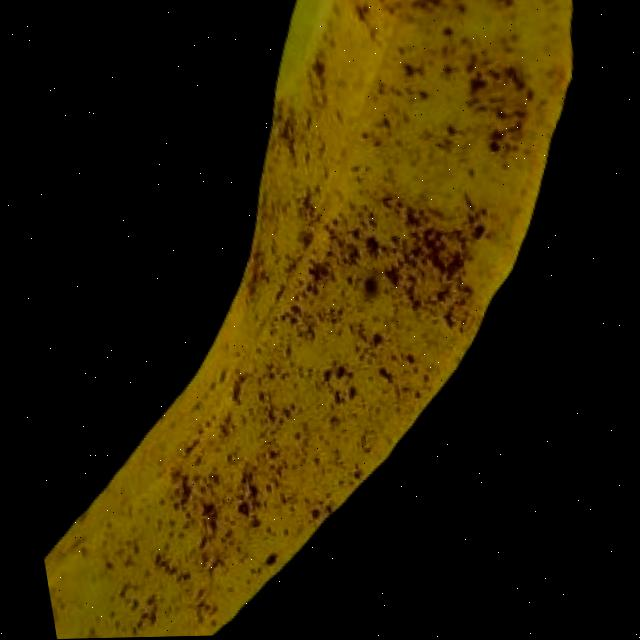mite: (356, 269, 387, 304), (359, 274, 381, 299), (258, 549, 280, 568)
spots: (1, 0, 640, 639)
